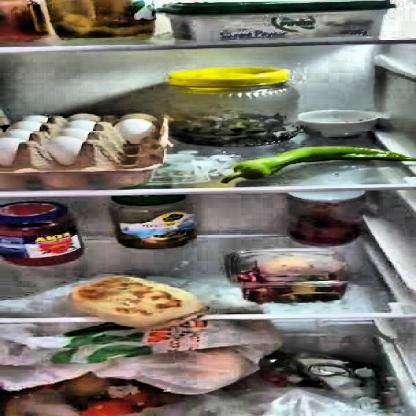cream_cheese: (160, 2, 385, 40)
eggs: (4, 117, 162, 167)
green_chillies: (227, 146, 411, 180)
olives: (172, 106, 298, 144)
tomato: (86, 398, 143, 415)
